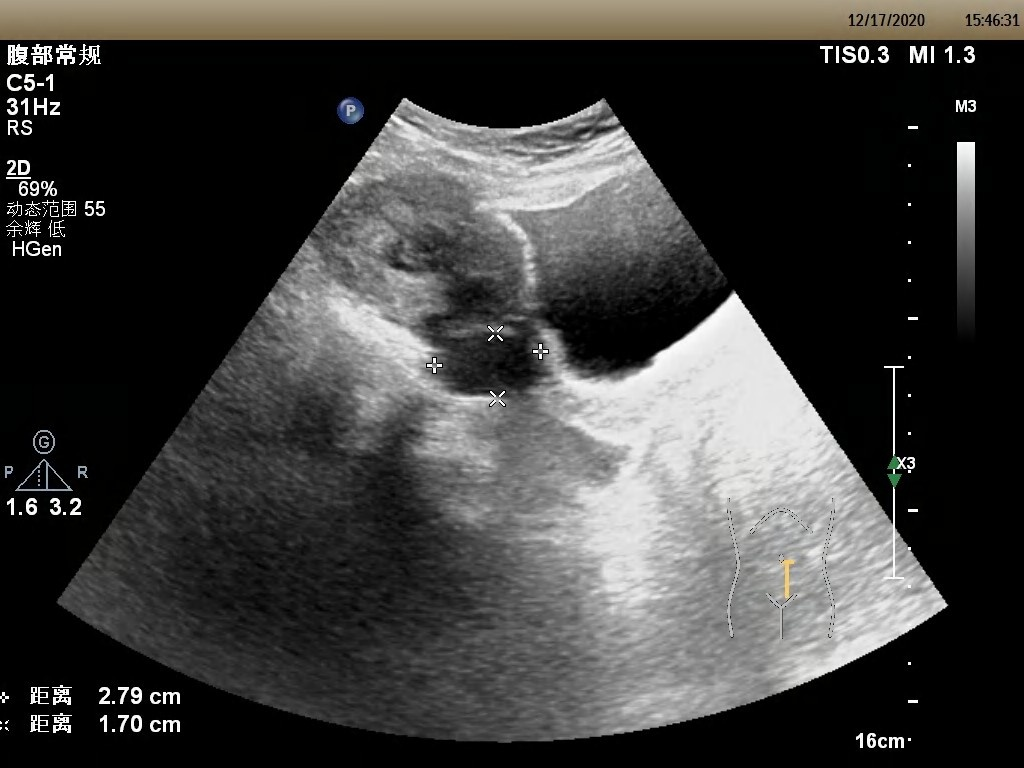肌瘤: (448, 336, 540, 393)
